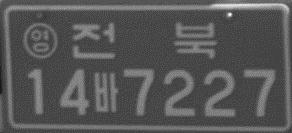1: (21, 68, 55, 115)
2: (203, 68, 236, 118), (163, 67, 195, 118)
4: (59, 69, 89, 115)
7: (122, 67, 156, 117), (243, 68, 275, 117)
바: (93, 71, 119, 113)
영: (23, 22, 58, 60)
전북_D: (70, 21, 217, 61)
